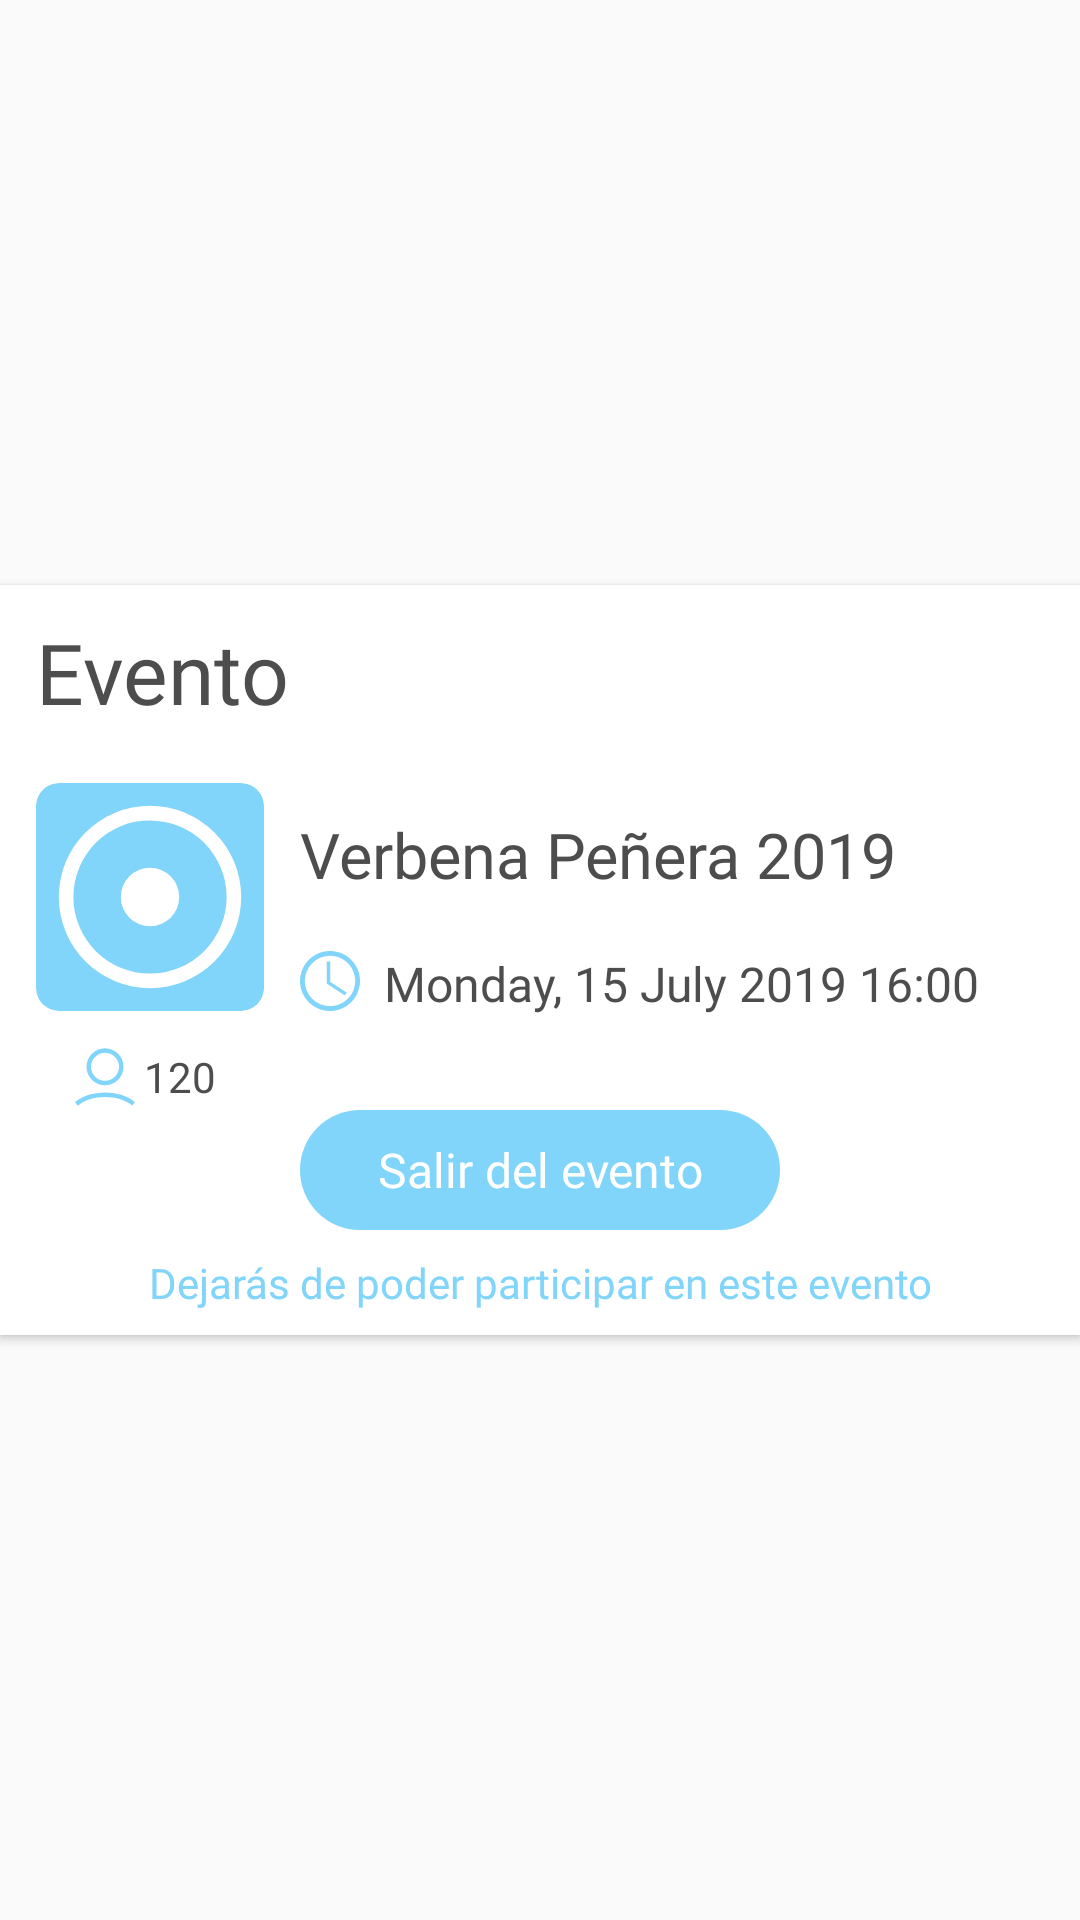

Screen size 1080px x 1920px. Icon name, then its box in pixels as (x1, y1, x2, y2):
time: (300, 951, 360, 1011)
user: (75, 1048, 135, 1106)
